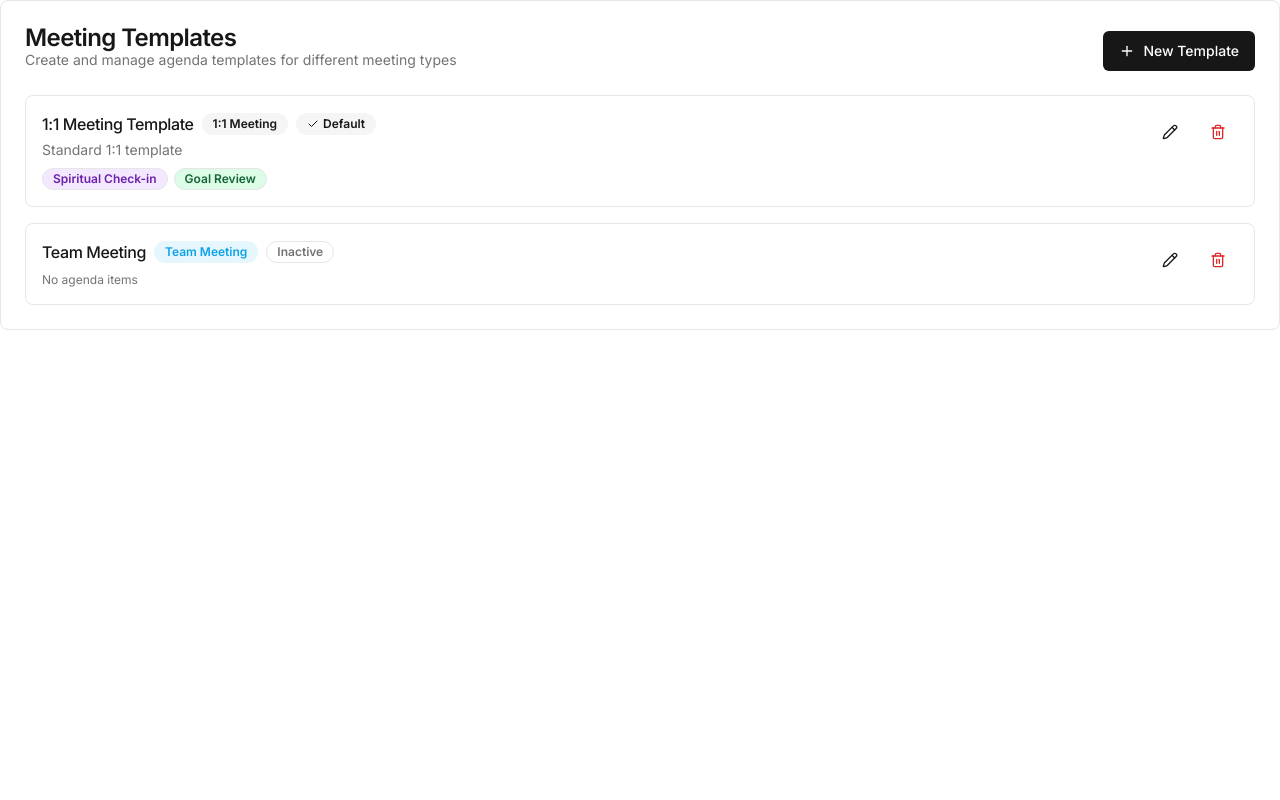
Scenario: MeetingTemplateManagement › should open form dialog when clicking New Template
This screenshot has width=1280, height=800.
Click the button "New Template".
click(1179, 51)  # box [1103, 31, 1255, 71]
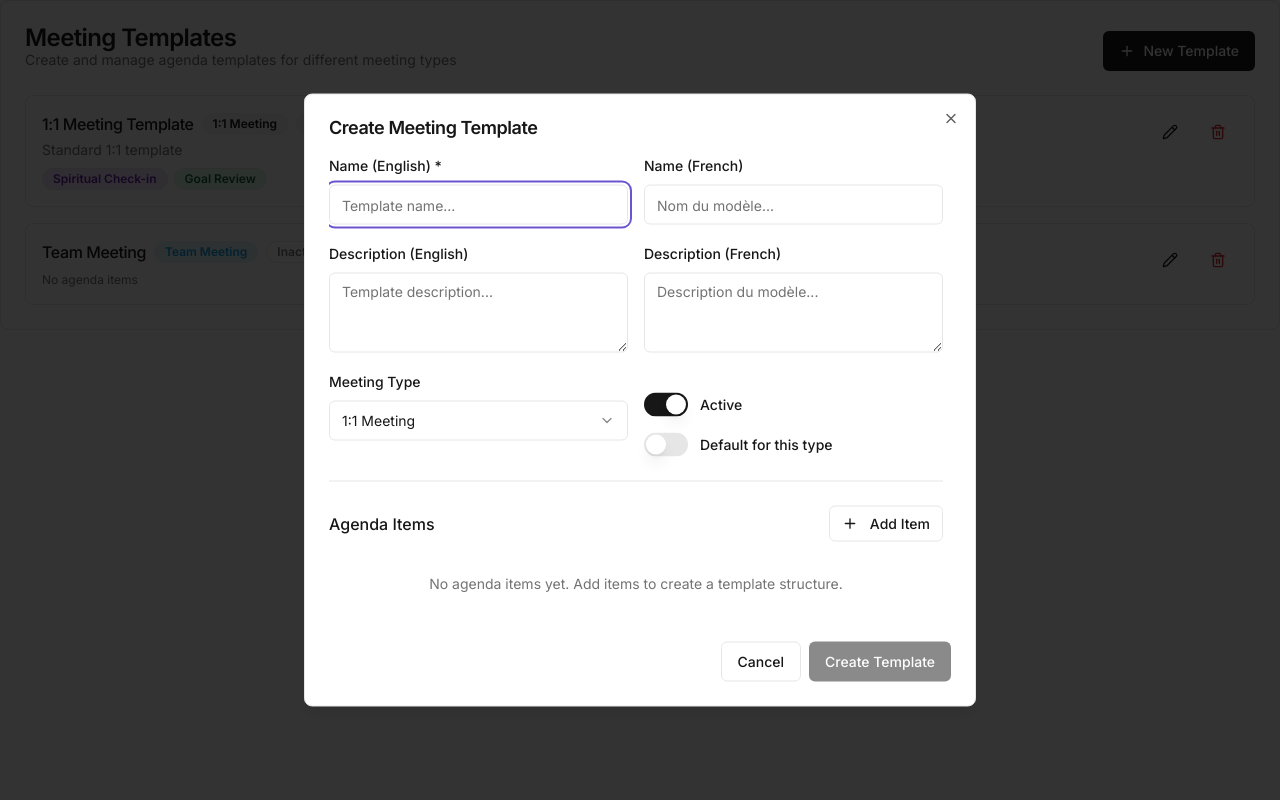
Expected: the heading "Create Meeting Template" is shown, [329, 116, 537, 138]
